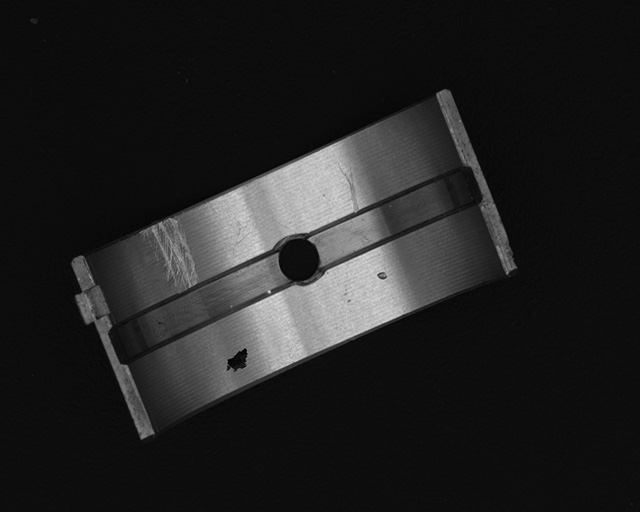blot: (225, 347, 250, 373)
bruise: (377, 272, 388, 281)
gap: (109, 257, 289, 364), (306, 169, 483, 263)
hole: (278, 235, 322, 284)
nick: (338, 164, 360, 212)
scratch: (142, 219, 198, 289)
